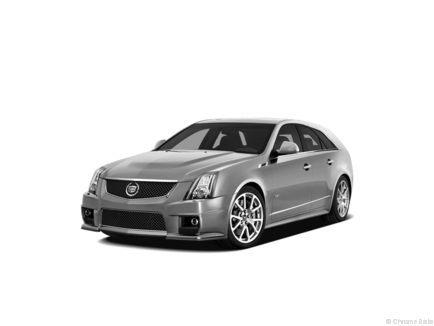car: (80, 116, 359, 250)
